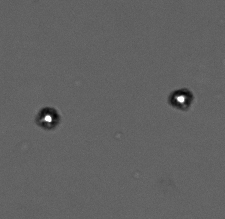Living Cell: (168, 88, 194, 109), (37, 108, 59, 129)
